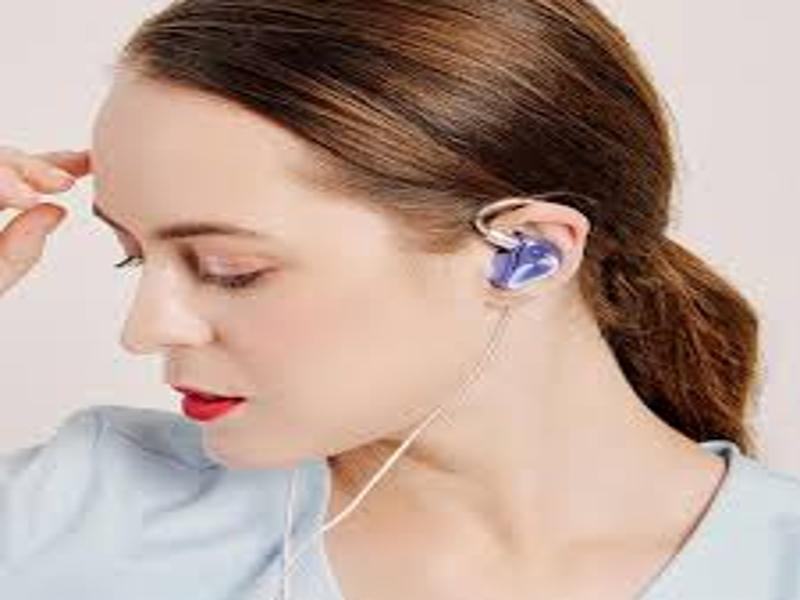headphone: (490, 234, 563, 289)
